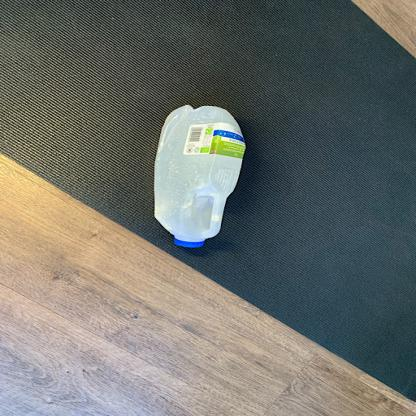trash: (149, 103, 248, 248)
